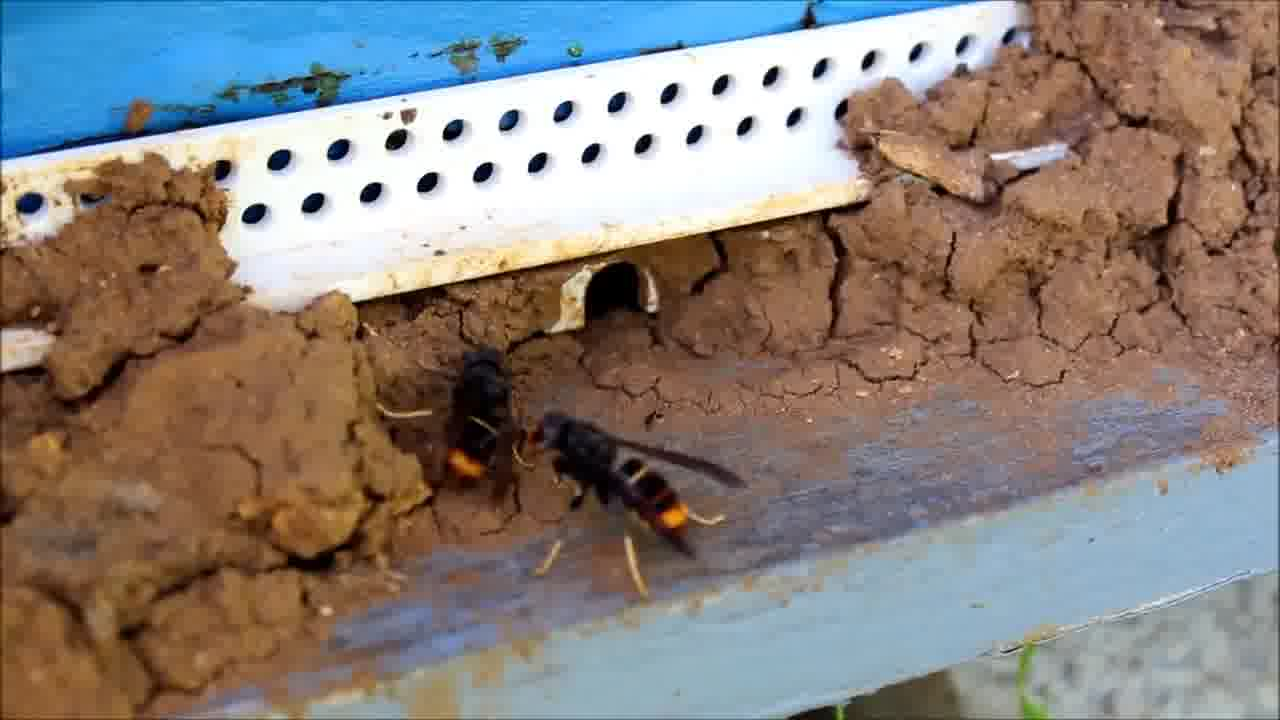hornet: (531, 401, 741, 599), (411, 322, 539, 518)
